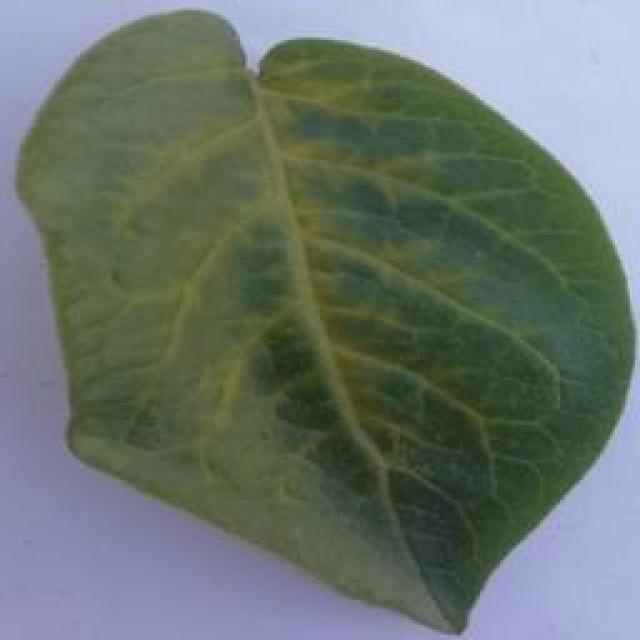Potato_Healthy: (19, 8, 626, 634)
